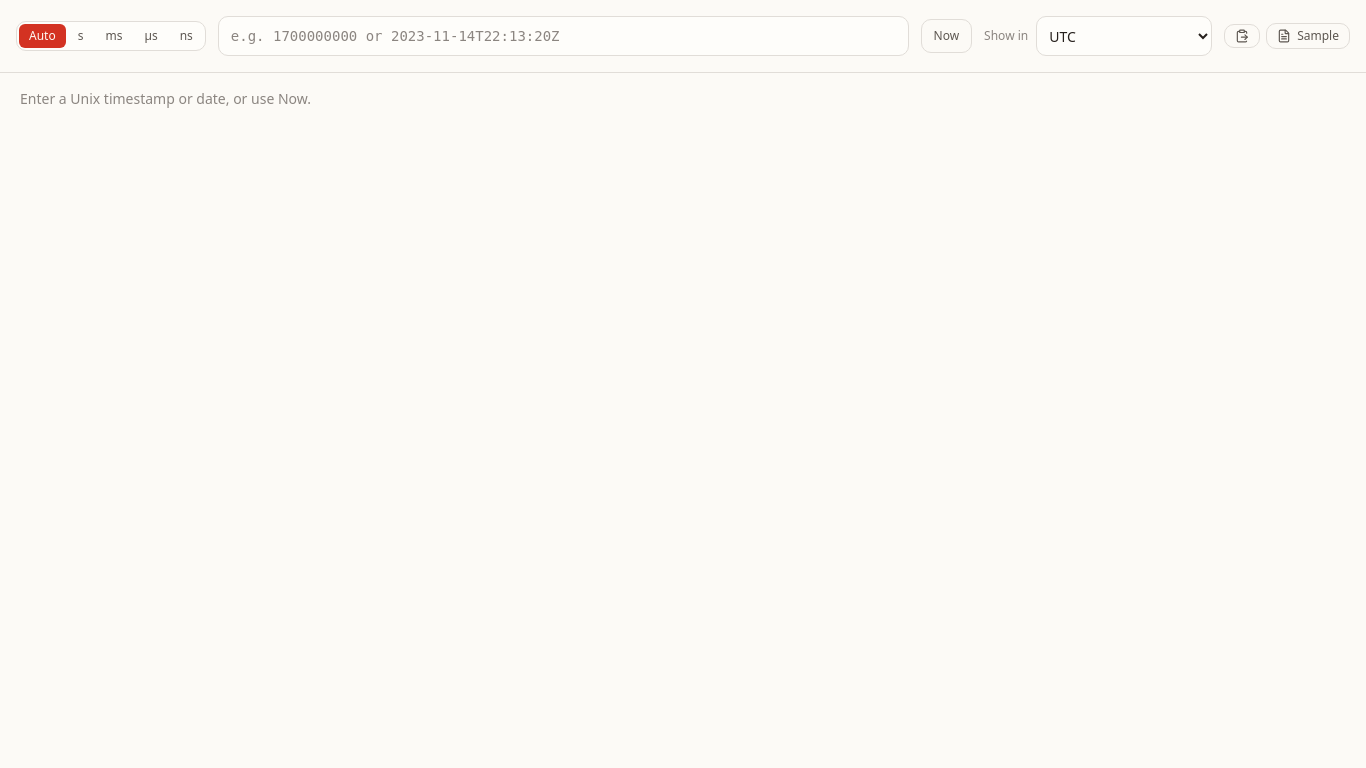
TimeTool › converts a timestamp into human representations
In the field named "Timestamp or date": (563, 36) [218, 16, 908, 56], type "1700000000"
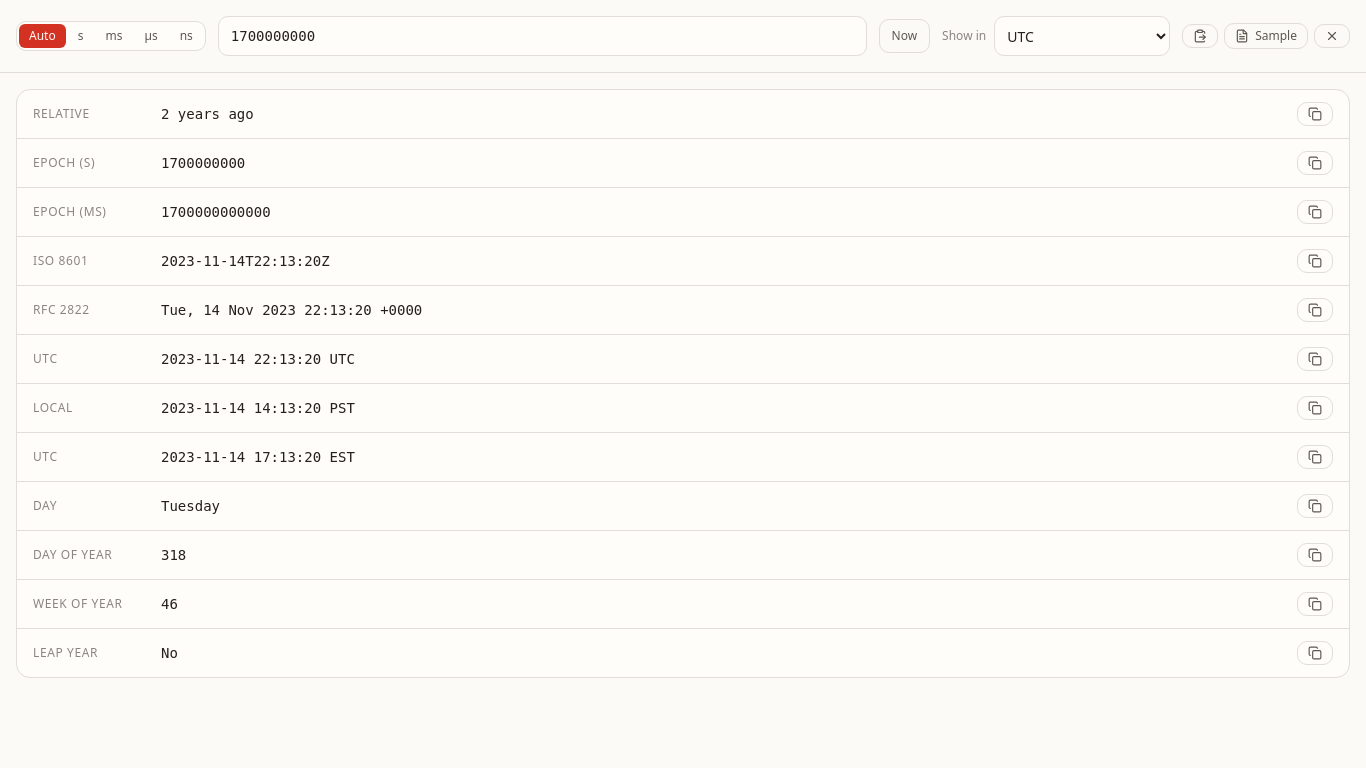
Check: the text "2023-11-14T22:13:20Z" is shown, box [161, 253, 330, 269]
Check: the text "Tuesday" is shown, box [161, 498, 220, 514]
Check: the text "2 years ago" is shown, box [161, 106, 254, 122]
